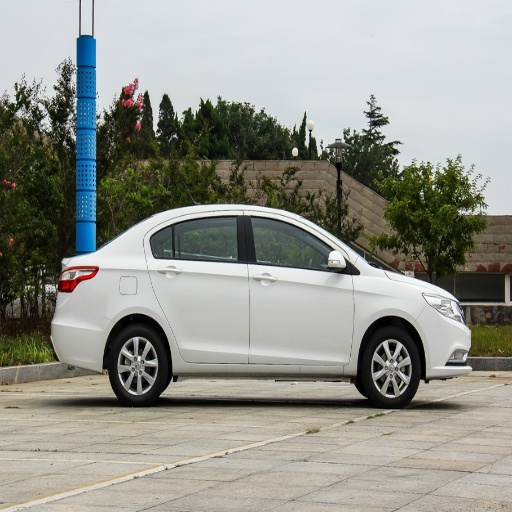back_right_door: (147, 211, 248, 362)
front_right_door: (245, 212, 354, 364)
